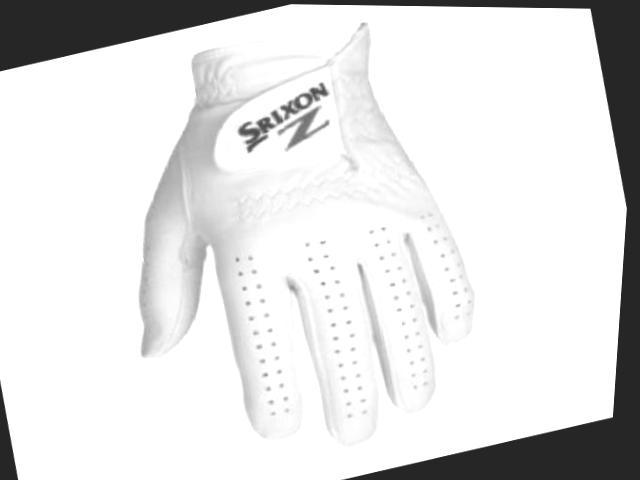Hand-in-Glove: (60, 1, 542, 480)
